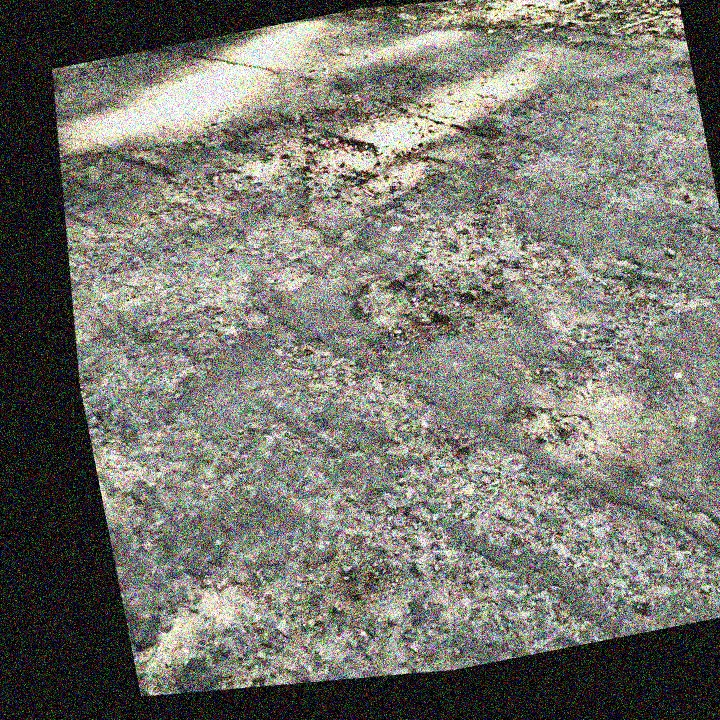pothole: (337, 240, 530, 375), (286, 114, 443, 234), (496, 387, 600, 464)
